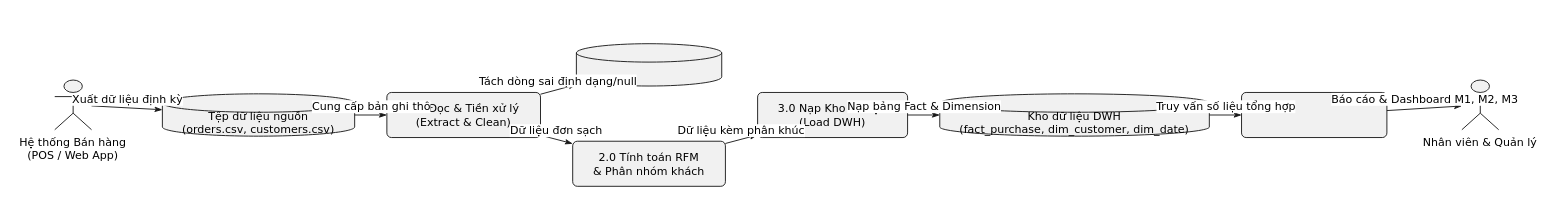
The diagram is 1557 pixels wide and 202 high, and some of its shapes have lost their labels. Here are the shapes that lost their labels. From the top down, the centre of each, then its label:
At point (648, 64): "Tệp lỗi (reject_records.csv)".
At point (1314, 115): "4.0 Trực quan hóa (Visualization)".
